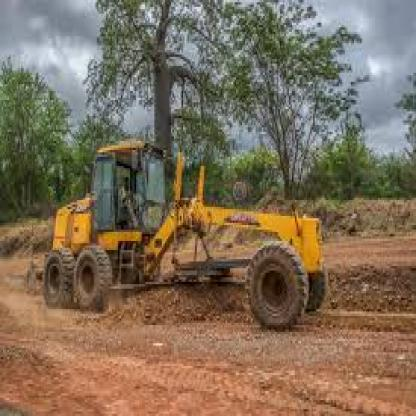bull_dozer/loader/grader: (35, 130, 343, 336)
